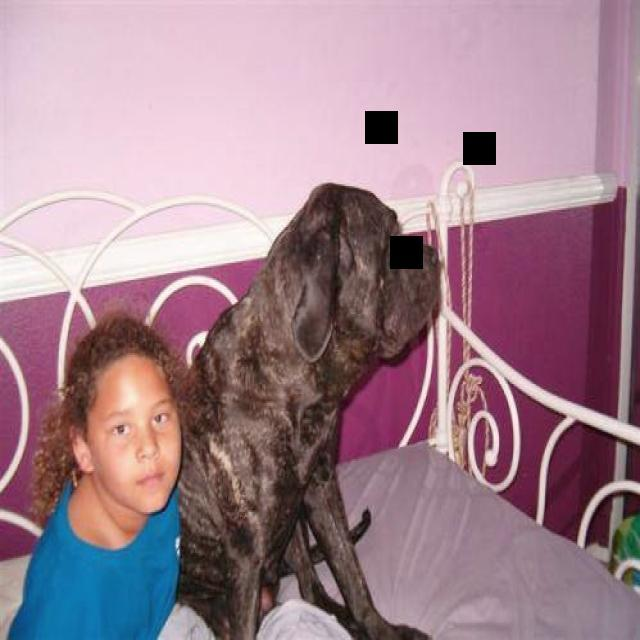adult_dog: (176, 179, 446, 640)
non-dog: (6, 303, 349, 640)
